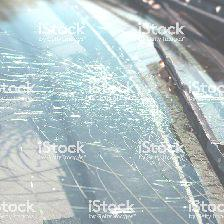glass_shatter: (1, 48, 215, 218)
